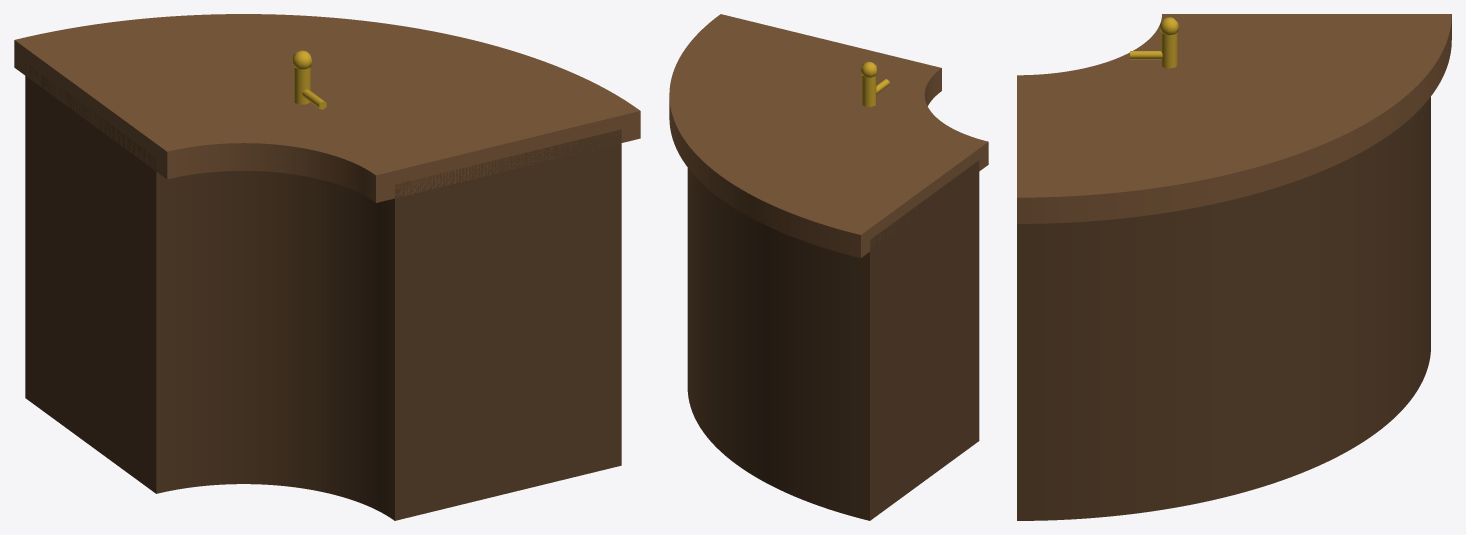
File: bar-corner.glb
3 renders of one model, left to right at view 1: azimuth 30°, elevation 25°; view 2: azimuth 150°, elevation 25°; view 3: azimuth 270°, elevation 25°, orthographic. The views are drawn at different scales.
Bounding box in the file's own units: 1.05 × 1.05 × 1.05.
